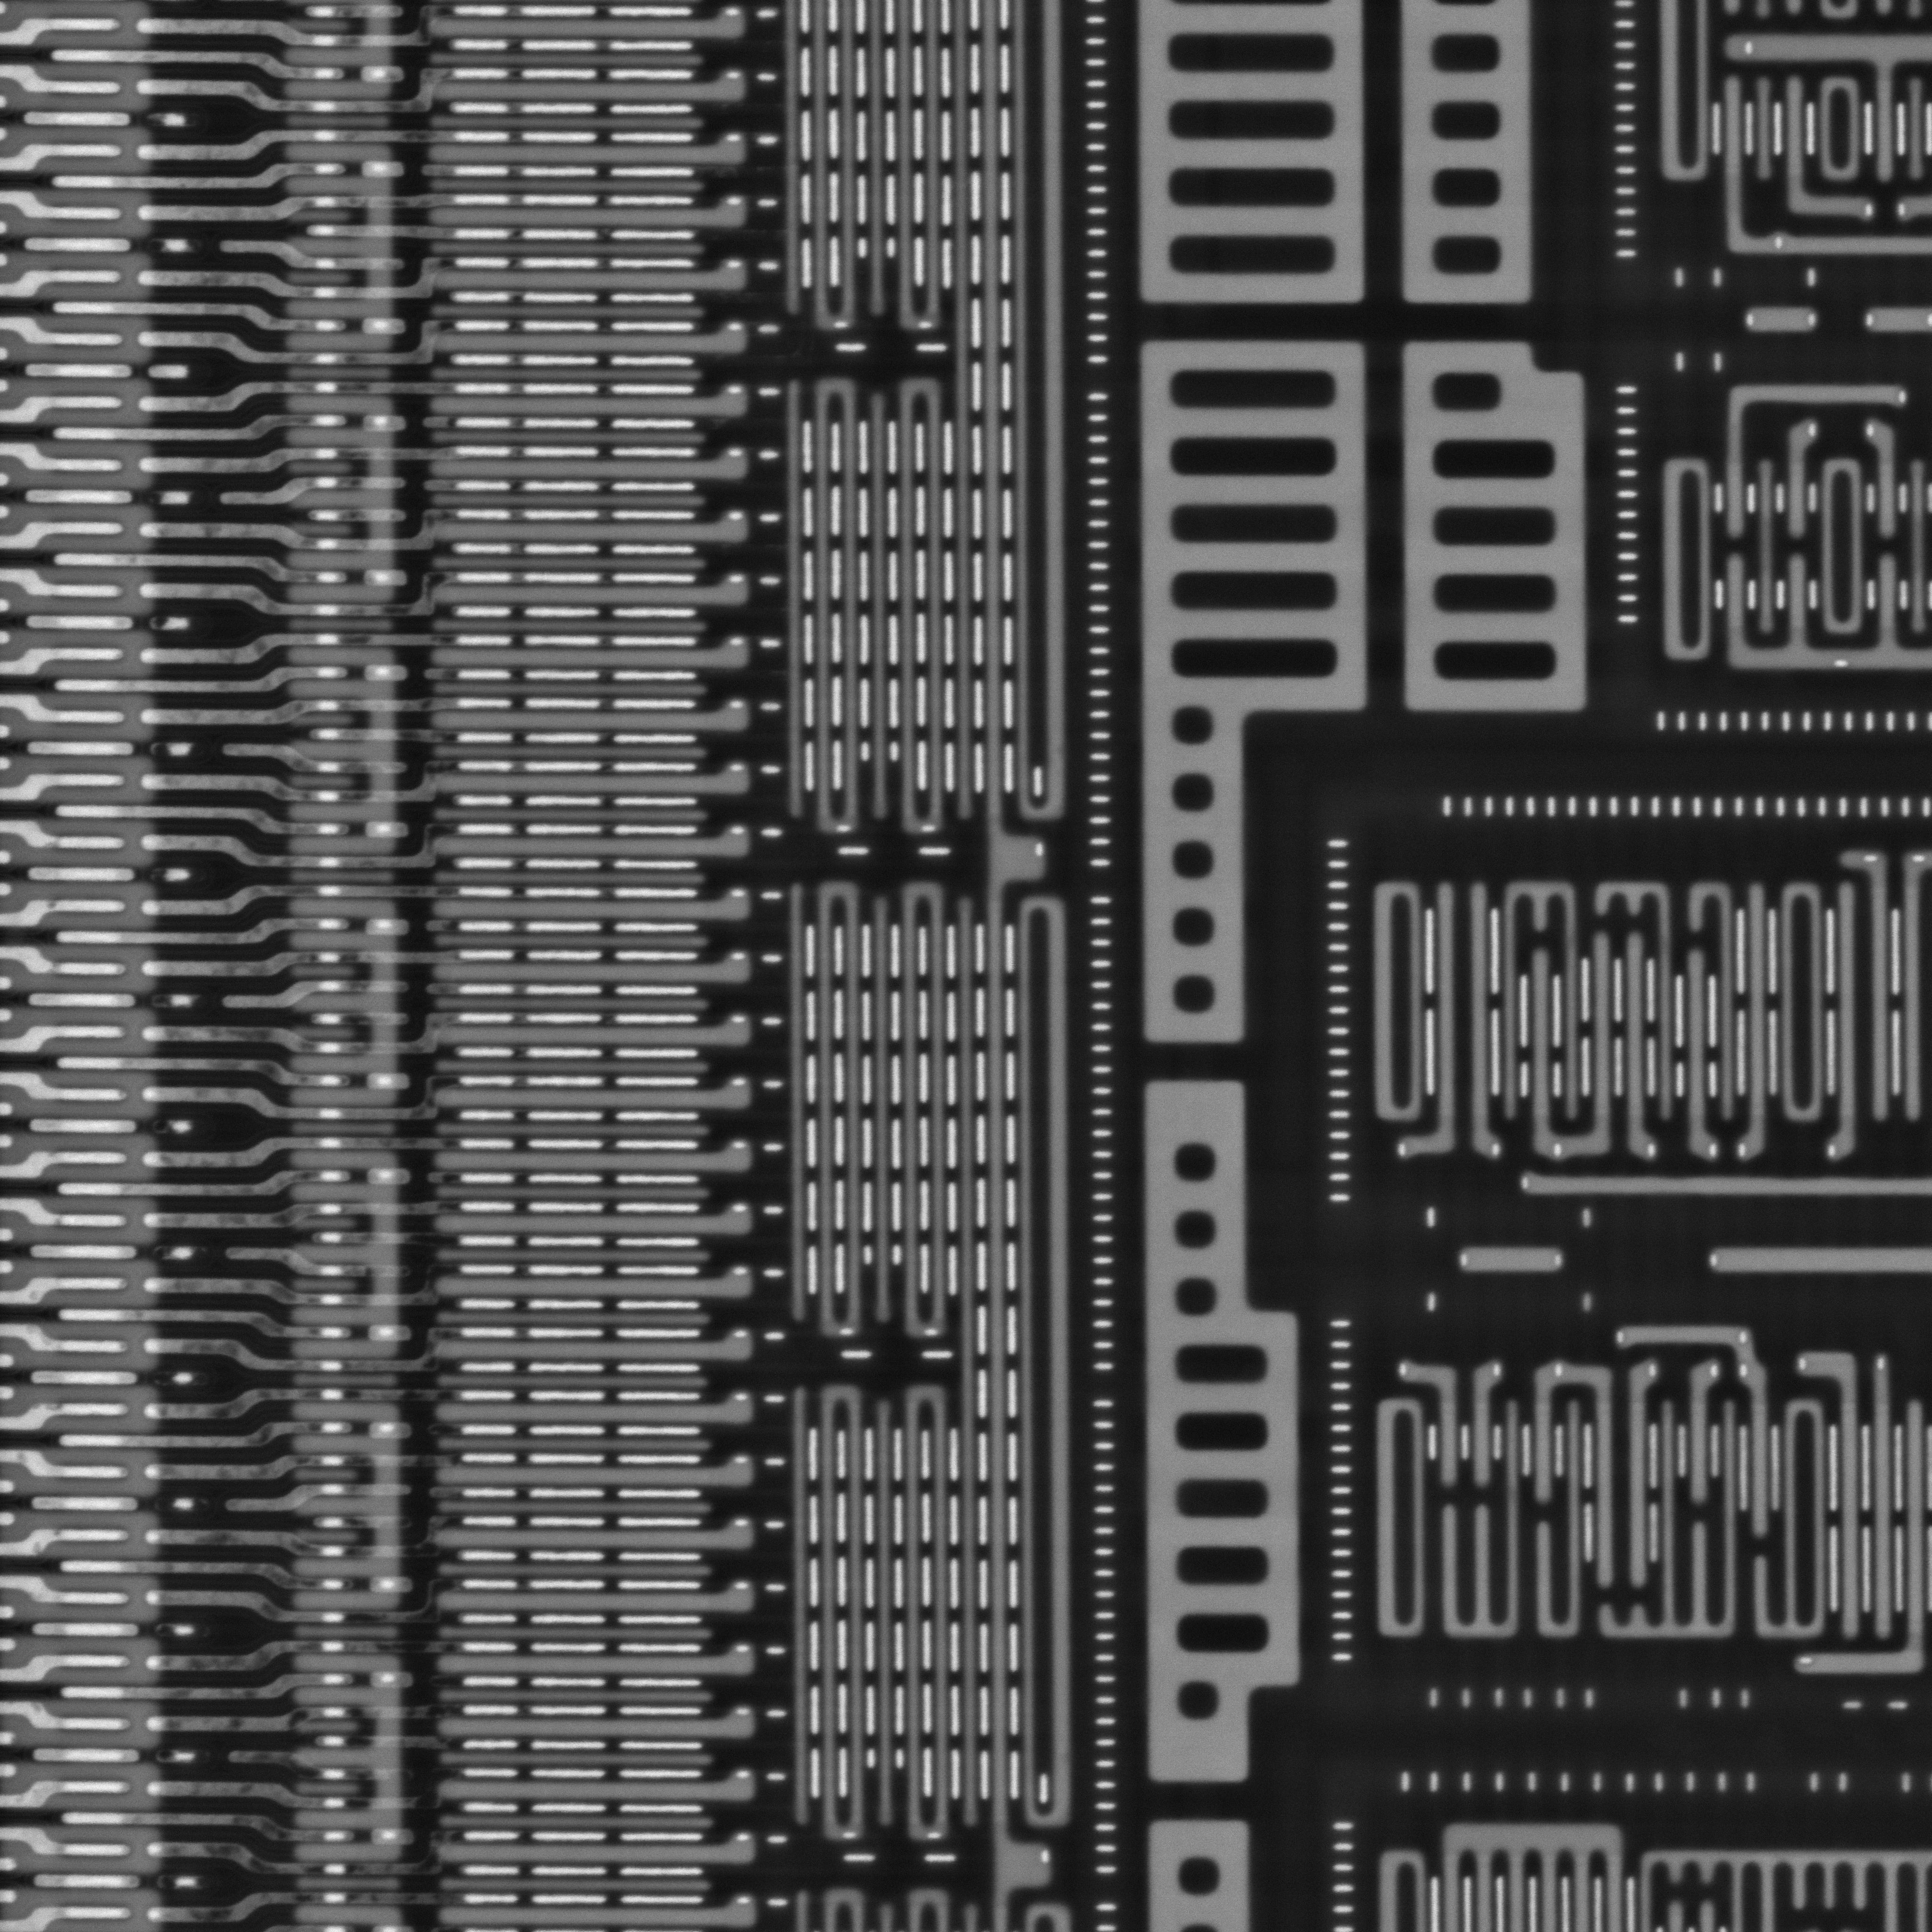doubleGate: (807, 1384, 878, 1849), (890, 879, 961, 1341), (801, 878, 872, 1338), (886, 370, 955, 839), (801, 370, 870, 833), (892, 1391, 961, 1844)
insideDummy: (1132, 334, 1375, 1060), (1139, 1076, 1327, 1799), (1403, 341, 1599, 717)
publicGate: (1394, 872, 1506, 1173), (1555, 1350, 1665, 1596), (1824, 853, 1907, 1175)
singleGate: (1799, 1353, 1874, 1638), (432, 1516, 770, 1566), (1769, 74, 1879, 226), (441, 1261, 764, 1313), (430, 1449, 763, 1499), (426, 1642, 764, 1690), (430, 1704, 763, 1752), (1861, 1346, 1909, 1644), (1736, 881, 1778, 1162), (1672, 947, 1723, 1162), (1518, 943, 1566, 1162), (1392, 1359, 1468, 1490), (1522, 1353, 1568, 1520), (1677, 1348, 1721, 1513), (1454, 1355, 1504, 1500), (1859, 421, 1911, 545), (1776, 416, 1821, 552)
